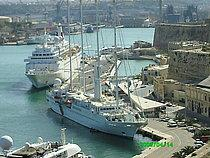Ship: (48, 88, 150, 137), (18, 38, 86, 85)
